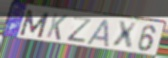6: (137, 24, 158, 53)
A: (85, 18, 110, 48)
K: (45, 12, 69, 42)
M: (18, 9, 51, 39)
X: (111, 21, 139, 51)
Z: (66, 16, 94, 44)
